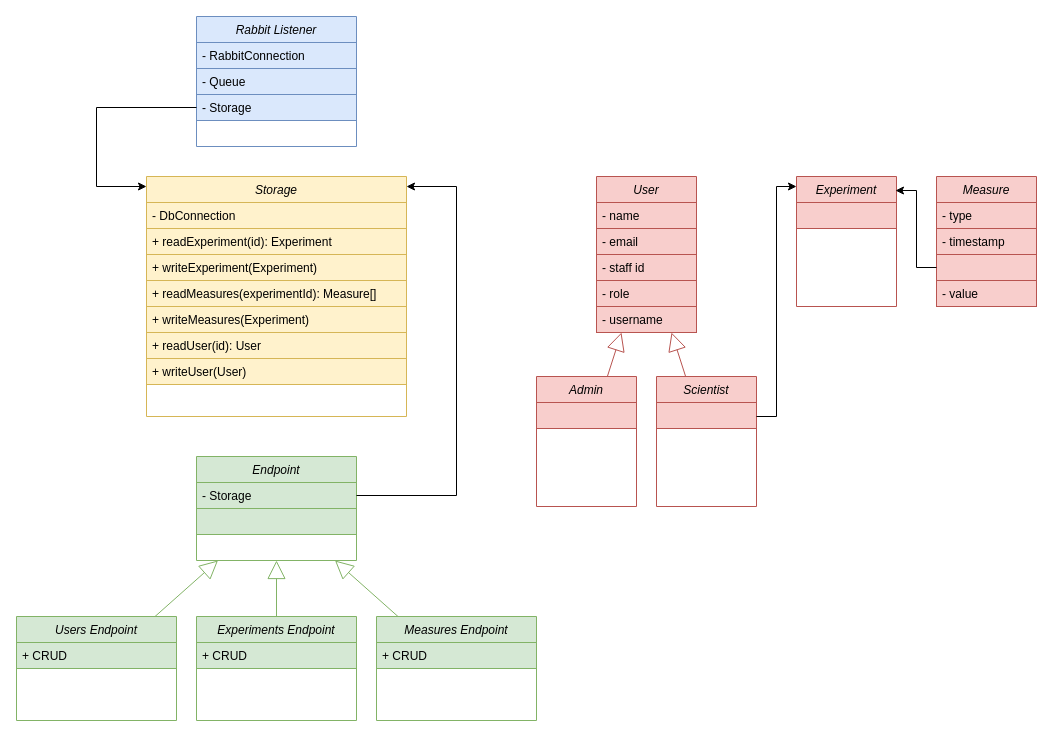
This 1053x737 diagram has some shape labels left out. The shapes that lost their labels are listed below. From the top down, each one's centre as x and y in pixels, then its label:
At point (846, 215): "- id".
At point (986, 267): "- experiment id".
At point (586, 415): "+ manage(User)".
At point (706, 415): "- Experiments[]".
At point (276, 521): "- listen()".
